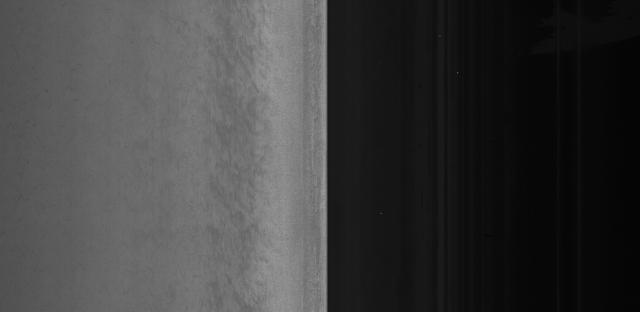silk_spot: (213, 118, 271, 218)
